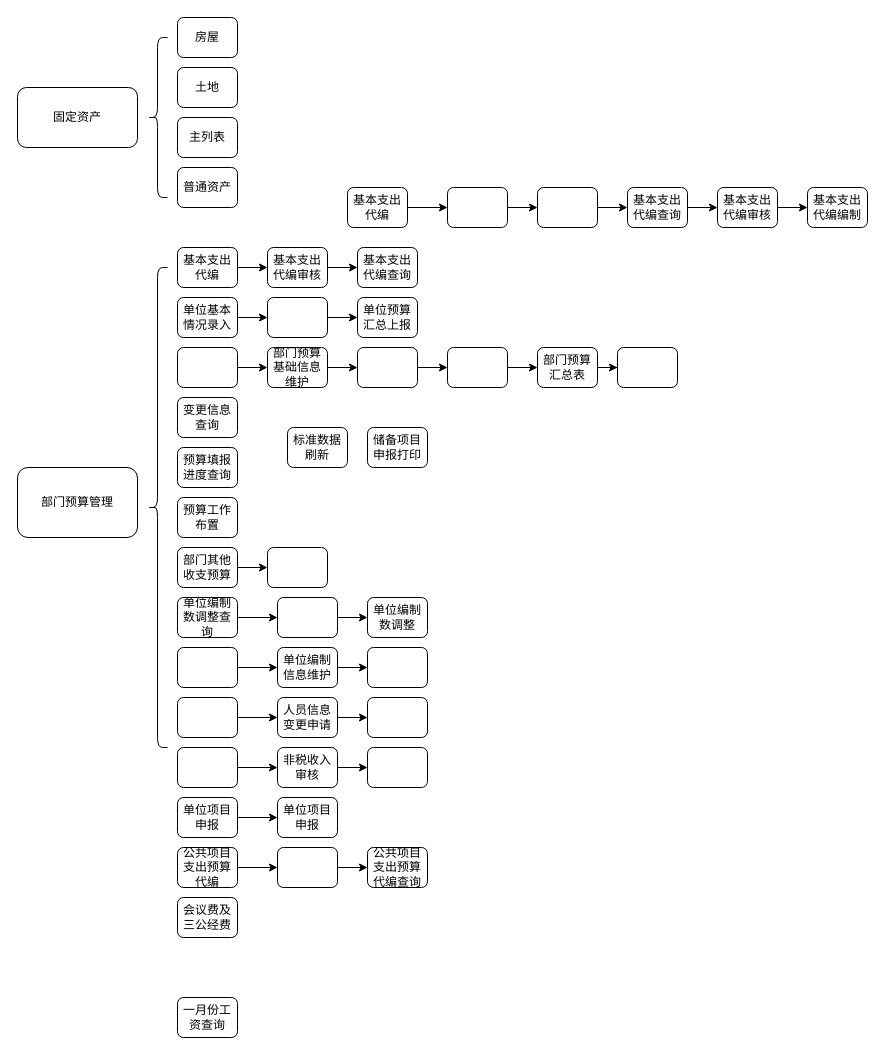
Image size: 885x1055. Some labels were removed from this diagram. The shapes that lost their labels are listed below. From the top down, each one's box as (x1, y1, x2, y2) in pixels, then its label:
(446, 186, 508, 228): 基本支出代编变更
(536, 186, 598, 228): 基本支出代编变更审核
(266, 296, 328, 338): 单位综合查询
(176, 346, 238, 388): 部门预算信息录入
(356, 346, 418, 388): 部门预算草案报表
(446, 346, 508, 388): 部门预算公开报表
(616, 346, 678, 388): 部门预算公开
(266, 546, 328, 588): 部门其他收支预算查询
(276, 596, 338, 638): 单位编制数调整审核
(176, 646, 238, 688): 单位编制信息（维护）
(366, 646, 428, 688): 单位编制信息
(176, 696, 238, 738): 人员变更公共页面
(366, 696, 428, 738): 单位人员查询
(176, 746, 238, 788): 非税收入计划编制
(366, 746, 428, 788): 非税收入计划编制查询
(276, 846, 338, 888): 公共项目支出预算代编审核
